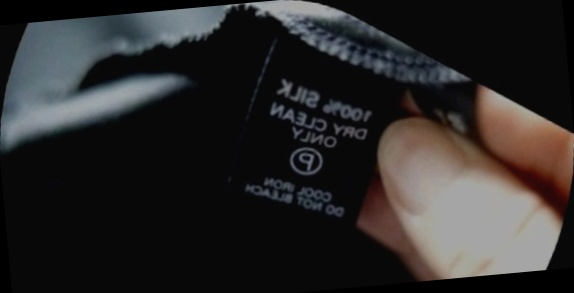dry_clean_any_solvent_except_trichloroethylene: (272, 127, 339, 193)
